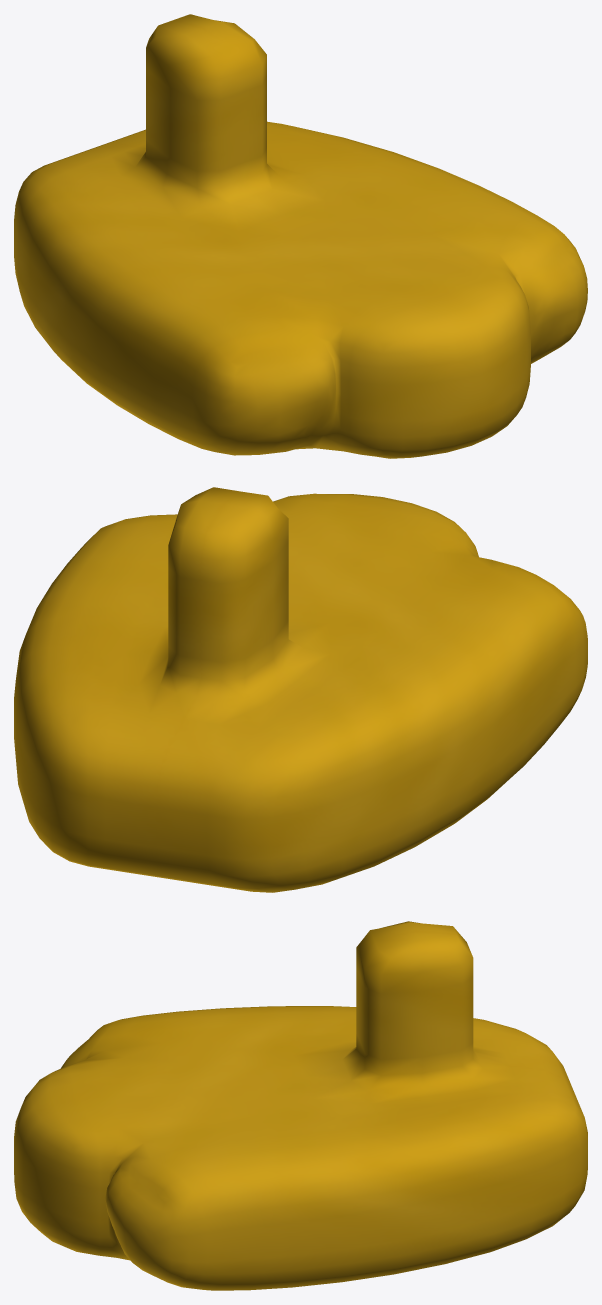
Rendered from lfoot.obj.
3 views of the same model, one above another, from view 1: azimuth 30°, elevation 25°; view 2: azimuth 150°, elevation 25°; view 3: azimuth 270°, elevation 25° (orthographic). The views are drawn at different scales.
Parts seen in each view (by area): view 1: Linux_Penguin__Left_Leg_; view 2: Linux_Penguin__Left_Leg_; view 3: Linux_Penguin__Left_Leg_.
Part boxes in pixels (x1,y1,x2,y2): Linux_Penguin__Left_Leg_: (14,14,587,458); Linux_Penguin__Left_Leg_: (14,487,587,892); Linux_Penguin__Left_Leg_: (14,921,587,1290).
Bounding box in the file's own units: 4.61 × 3.03 × 5.79.
